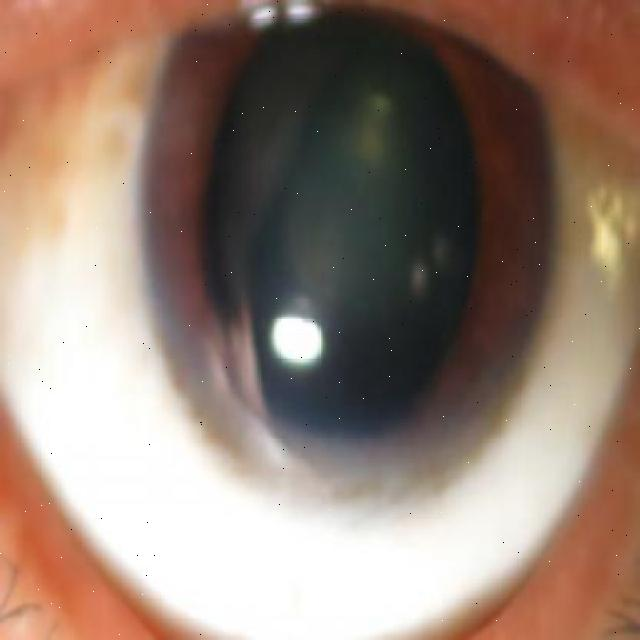Cataract: (134, 0, 562, 525)
